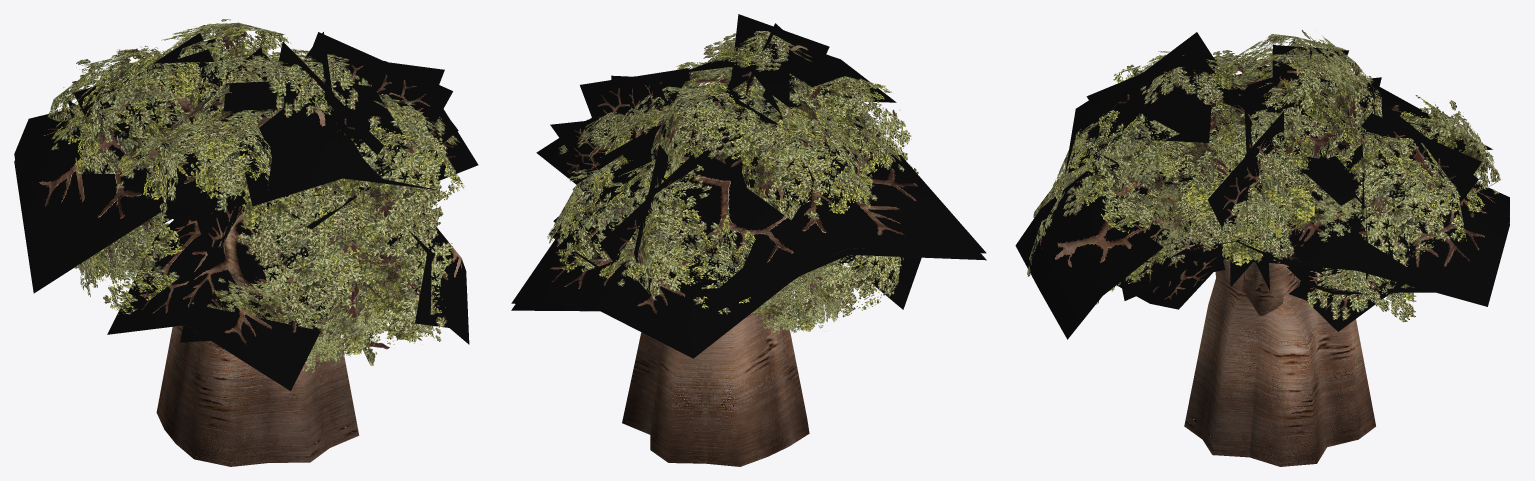
File: flora_tree_baobab_3_mature_v3.glb
3 renders of one model, left to right at view 1: azimuth 30°, elevation 25°; view 2: azimuth 150°, elevation 25°; view 3: azimuth 270°, elevation 25°, orthographic. The views are drawn at different scales.
Visible parts, largest first — view 1: flora_tree_baobab_3_mature_v3_part2, flora_tree_baobab_3_mature_v3_part1, flora_tree_baobab_3_mature_v3_part0; view 2: flora_tree_baobab_3_mature_v3_part1, flora_tree_baobab_3_mature_v3_part2, flora_tree_baobab_3_mature_v3_part0; view 3: flora_tree_baobab_3_mature_v3_part1, flora_tree_baobab_3_mature_v3_part2, flora_tree_baobab_3_mature_v3_part0.
Boxes of the visible parts, bbox=[...] form: flora_tree_baobab_3_mature_v3_part2: bbox=[47, 19, 464, 373]; flora_tree_baobab_3_mature_v3_part1: bbox=[14, 32, 478, 390]; flora_tree_baobab_3_mature_v3_part0: bbox=[156, 318, 359, 466]; flora_tree_baobab_3_mature_v3_part1: bbox=[511, 14, 986, 358]; flora_tree_baobab_3_mature_v3_part2: bbox=[547, 31, 918, 334]; flora_tree_baobab_3_mature_v3_part0: bbox=[622, 294, 809, 466]; flora_tree_baobab_3_mature_v3_part1: bbox=[1015, 32, 1509, 339]; flora_tree_baobab_3_mature_v3_part2: bbox=[1027, 30, 1500, 322]; flora_tree_baobab_3_mature_v3_part0: bbox=[1184, 259, 1375, 466].
Bounding box in the file's own units: 30.03 × 26.51 × 31.49.
Materials: 3 (3 with a texture image).
